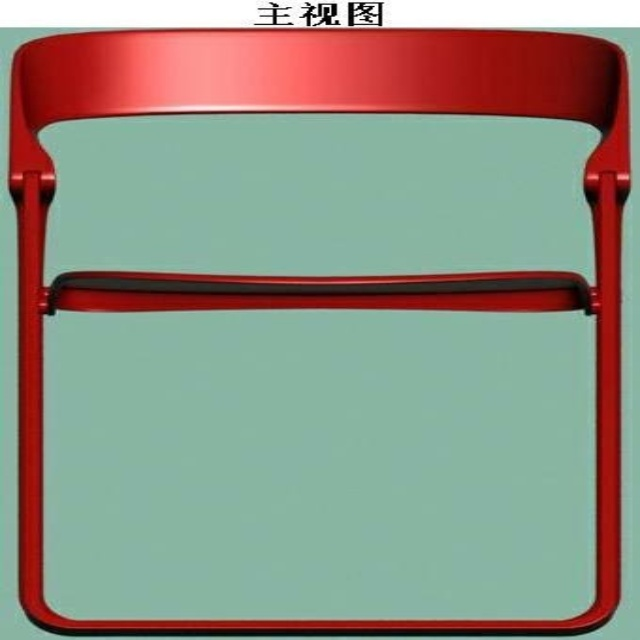obstacle: (8, 29, 627, 634)
